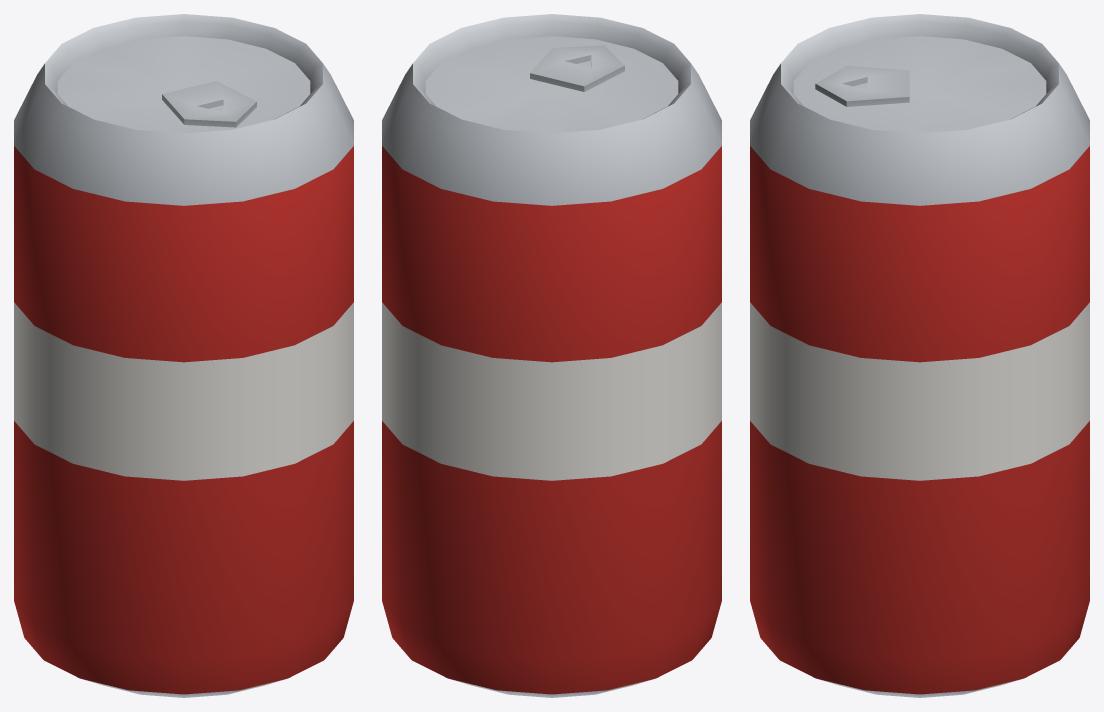
Rendered from can.glb.
3 views of the same model, side by side, from view 1: azimuth 30°, elevation 25°; view 2: azimuth 150°, elevation 25°; view 3: azimuth 270°, elevation 25° (orthographic).
Parts seen in each view (by area): view 1: can; view 2: can; view 3: can.
Part boxes in pixels (<box>): can: <box>14,14,353,697</box>; can: <box>382,14,721,697</box>; can: <box>750,14,1089,697</box>.
Size of the model in its own units: 0.066 by 0.1205 by 0.065.
